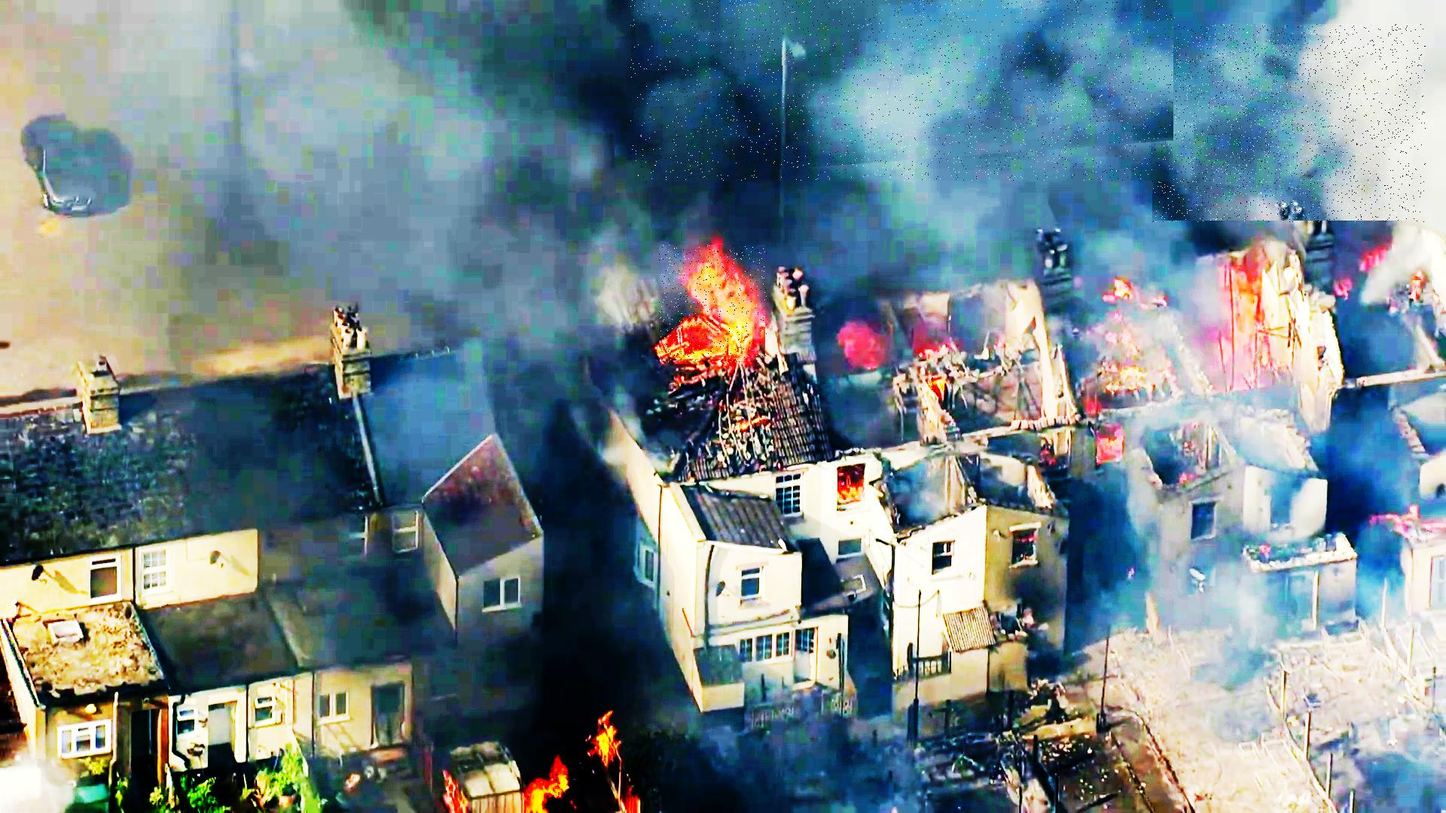fire: (660, 245, 767, 363)
smoke: (631, 0, 1176, 181), (1152, 25, 1426, 223)
